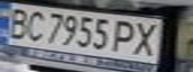5: (90, 16, 115, 52), (75, 14, 96, 50)
7: (42, 10, 66, 45)
9: (60, 11, 81, 47)
B: (0, 5, 33, 39)
C: (21, 8, 48, 43)
P: (109, 18, 142, 54)
X: (127, 19, 166, 57)
